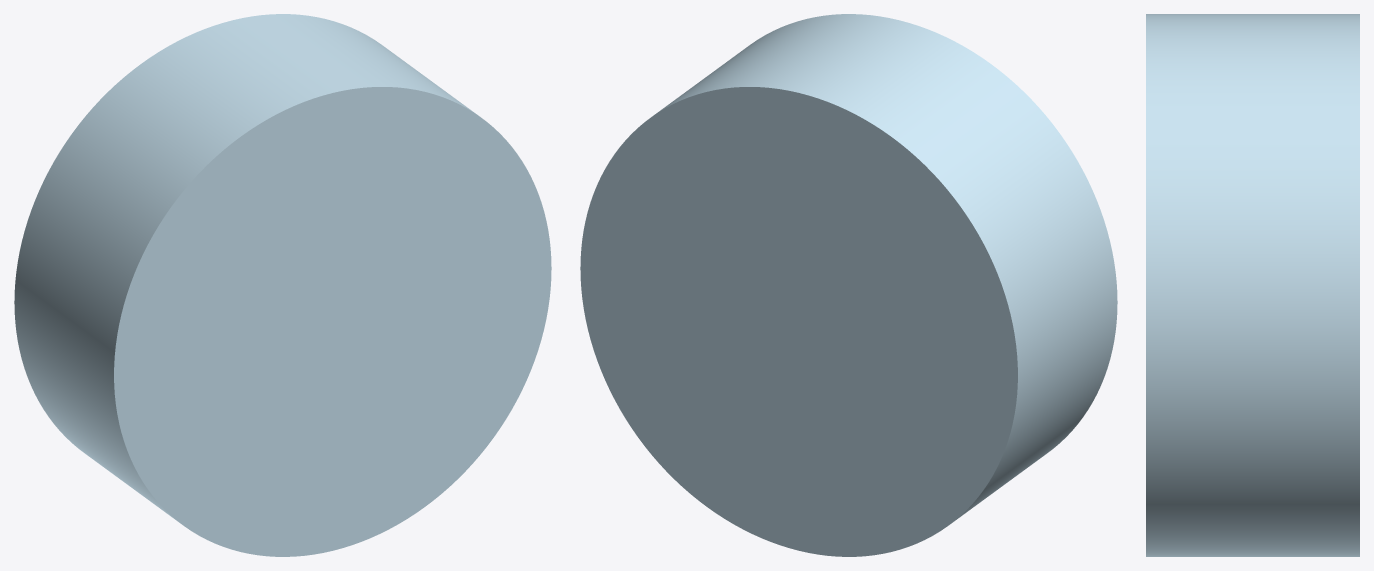
The model's file is sensor_body.gltf.
The picture shows the model from 3 angles, left to right: view 1: azimuth 30°, elevation 25°; view 2: azimuth 150°, elevation 25°; view 3: azimuth 270°, elevation 25°; orthographic projection. The views are drawn at different scales.
Visible parts, largest first — view 1: mesh178, mesh179; view 2: mesh180, mesh179; view 3: mesh179.
Part boxes in pixels (x1=…): mesh178: x1=114, y1=87, x2=551, y2=556; mesh179: x1=14, y1=14, x2=476, y2=523; mesh180: x1=580, y1=87, x2=1017, y2=556; mesh179: x1=655, y1=14, x2=1117, y2=523; mesh179: x1=1146, y1=14, x2=1359, y2=556.
Size of the model in its own units: 0.0755 by 0.0755 by 0.0298.
